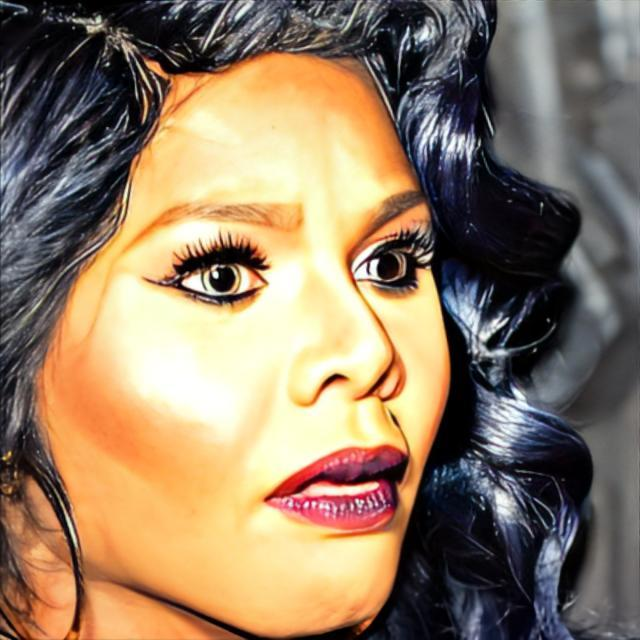fear: (31, 26, 452, 640)
